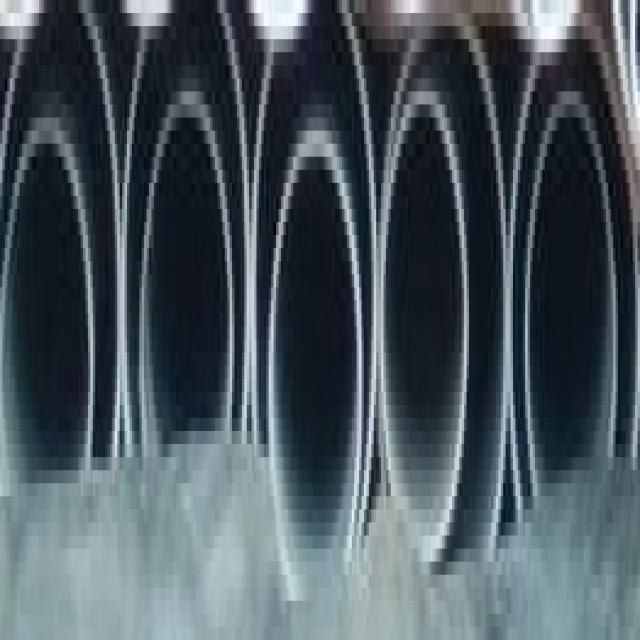pipe: (381, 0, 508, 601), (509, 3, 640, 578), (252, 0, 376, 569), (121, 0, 251, 488), (7, 6, 120, 515), (268, 132, 364, 617), (380, 88, 471, 565), (135, 100, 237, 520), (526, 94, 618, 538), (5, 133, 96, 563)
